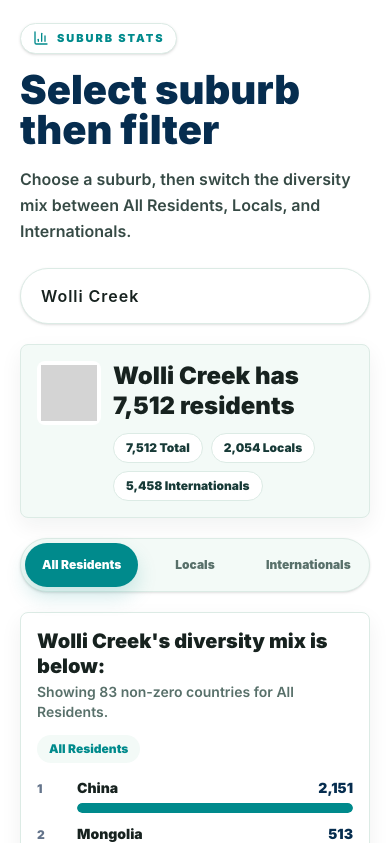
Where’s Wolli pages › switches the Wolli suburb diversity mix between Locals and Internationals
The width and height of the screenshot is (390, 843).
Click the tab "Locals" at x=195, y=564, box [138,542,252,586]
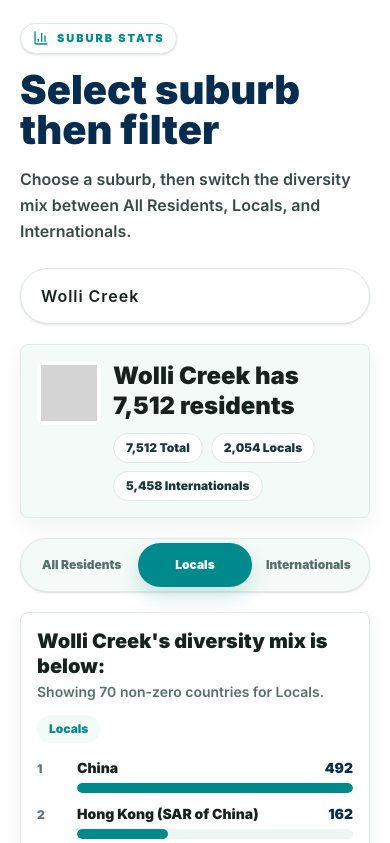
Now the text "Showing 70 non-zero countries for Locals." is shown, box [37,682,353,702]
Now the list item with test id "wolli-country-row" shows "China", box [77,760,118,776]
Now the list item with test id "wolli-country-row" shows "492", box [325,760,353,776]
Click the tab "Internationals" at x=308, y=564, box [252,542,365,586]
(page scrolled)
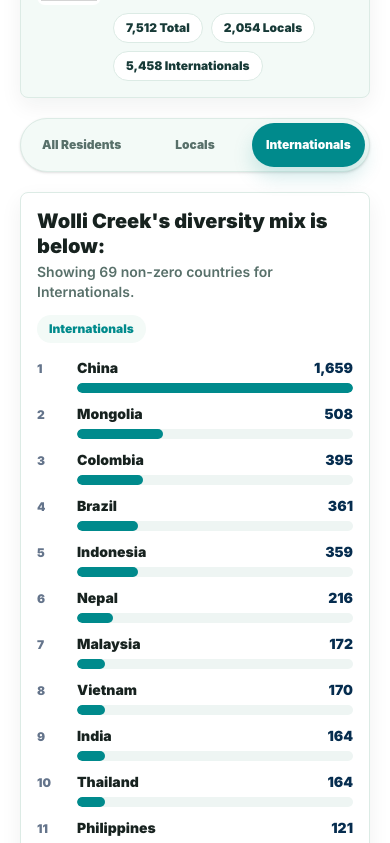
Now the text "Showing 69 non-zero countries for Internationals." is shown, box [37,264,273,300]
Now the list item with test id "wolli-country-row" shows "China", box [77,360,118,376]
Now the list item with test id "wolli-country-row" shows "1,659", box [314,360,353,376]
